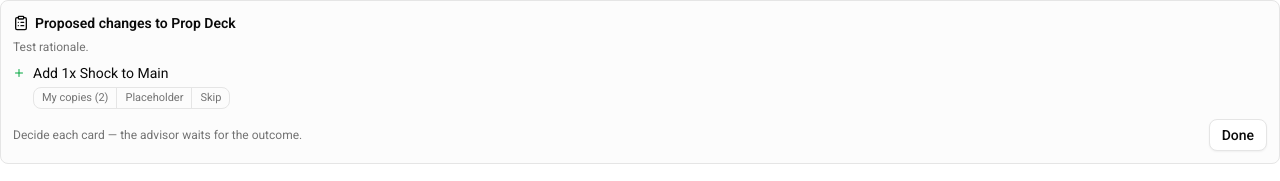
ProposalCard › shows the waiting hint until resolved, then the resolved note
expect the text "Decide each card — the advisor waits for the outcome." is shown: met, box [13,127,302,143]
Click the button "Skip" at (211, 98), box [192,88,229,108]
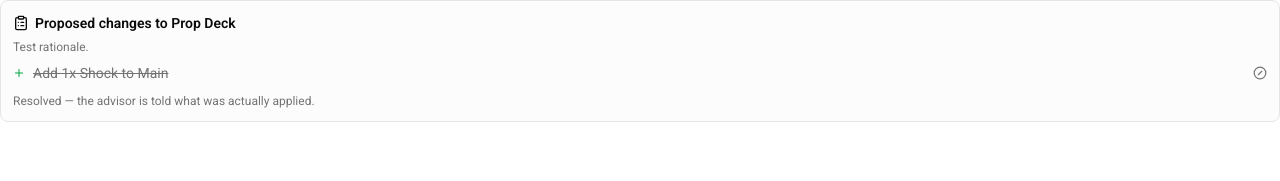
expect the text "Resolved — the advisor is told what was actually applied." is shown: met, box [13,93,315,109]
expect the button "Done" is gone: met
